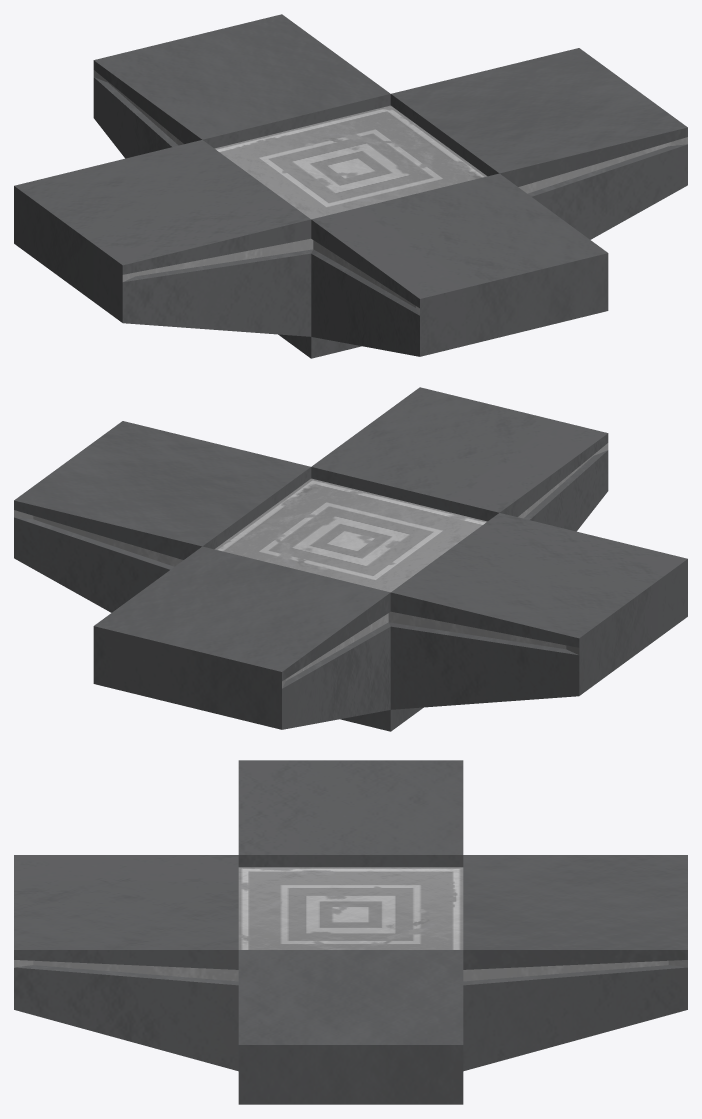
Rendered from floor cross.fbx.
3 renders of one model, top to bottom at view 1: azimuth 30°, elevation 25°; view 2: azimuth 150°, elevation 25°; view 3: azimuth 270°, elevation 25°, orthographic. The views are drawn at different scales.
Visible parts, largest first — view 1: pCube3; view 2: pCube3; view 3: pCube3.
Boxes of the visible parts, box(x1,y1,x2,y2) form: pCube3: box(14, 14, 687, 358); pCube3: box(14, 387, 687, 731); pCube3: box(14, 760, 687, 1104).
Bounding box in the file's own units: 0.7067 × 3 × 3.
Materials: 1 (1 with a texture image).
